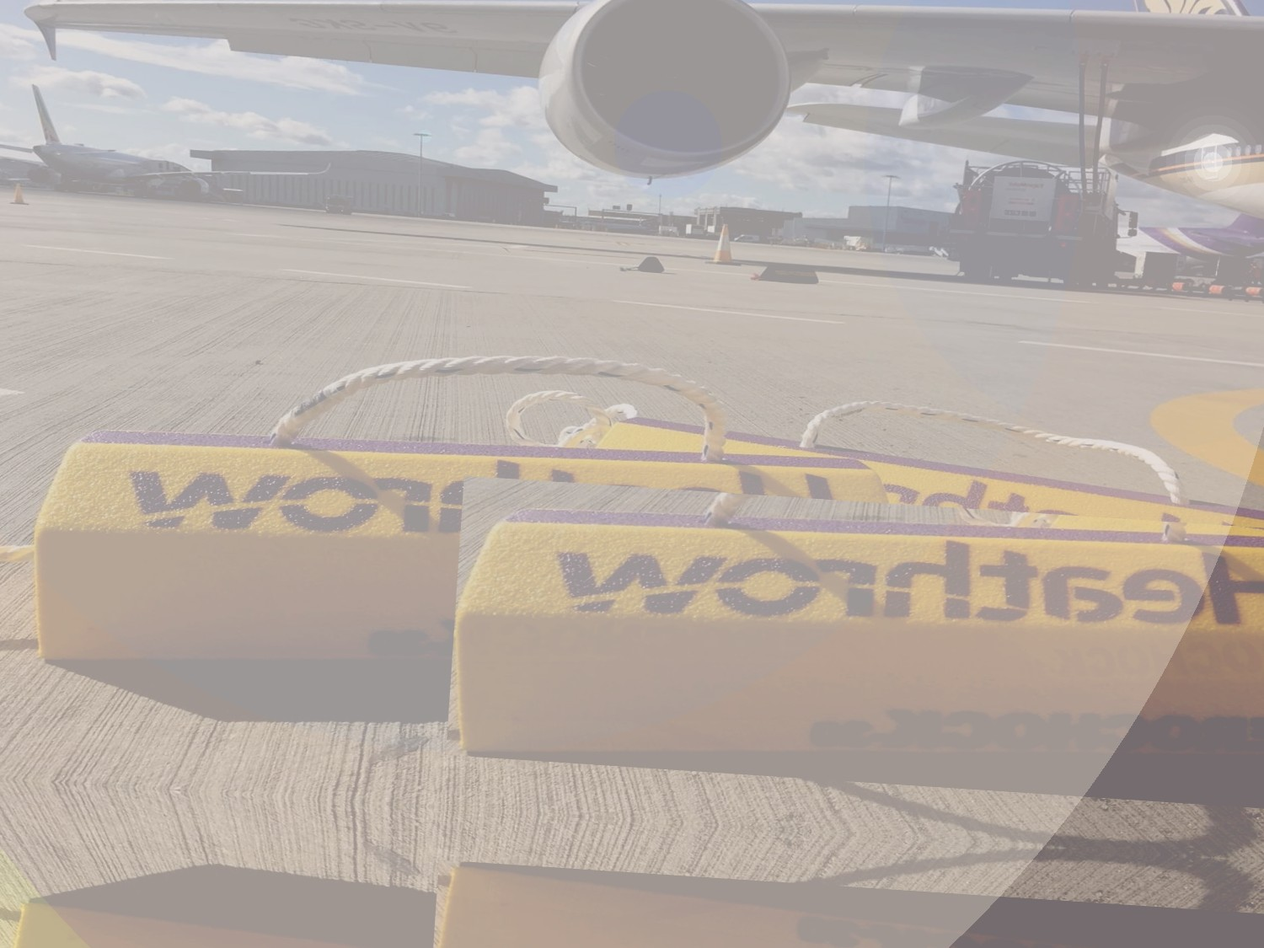chock: (24, 399, 916, 721), (446, 476, 1264, 816), (585, 413, 1264, 616), (987, 485, 1264, 717)
